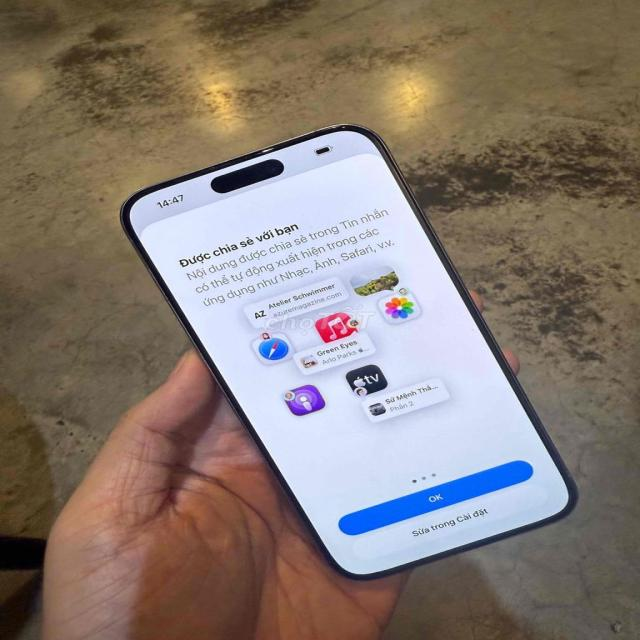gen_15: (98, 121, 576, 588)
